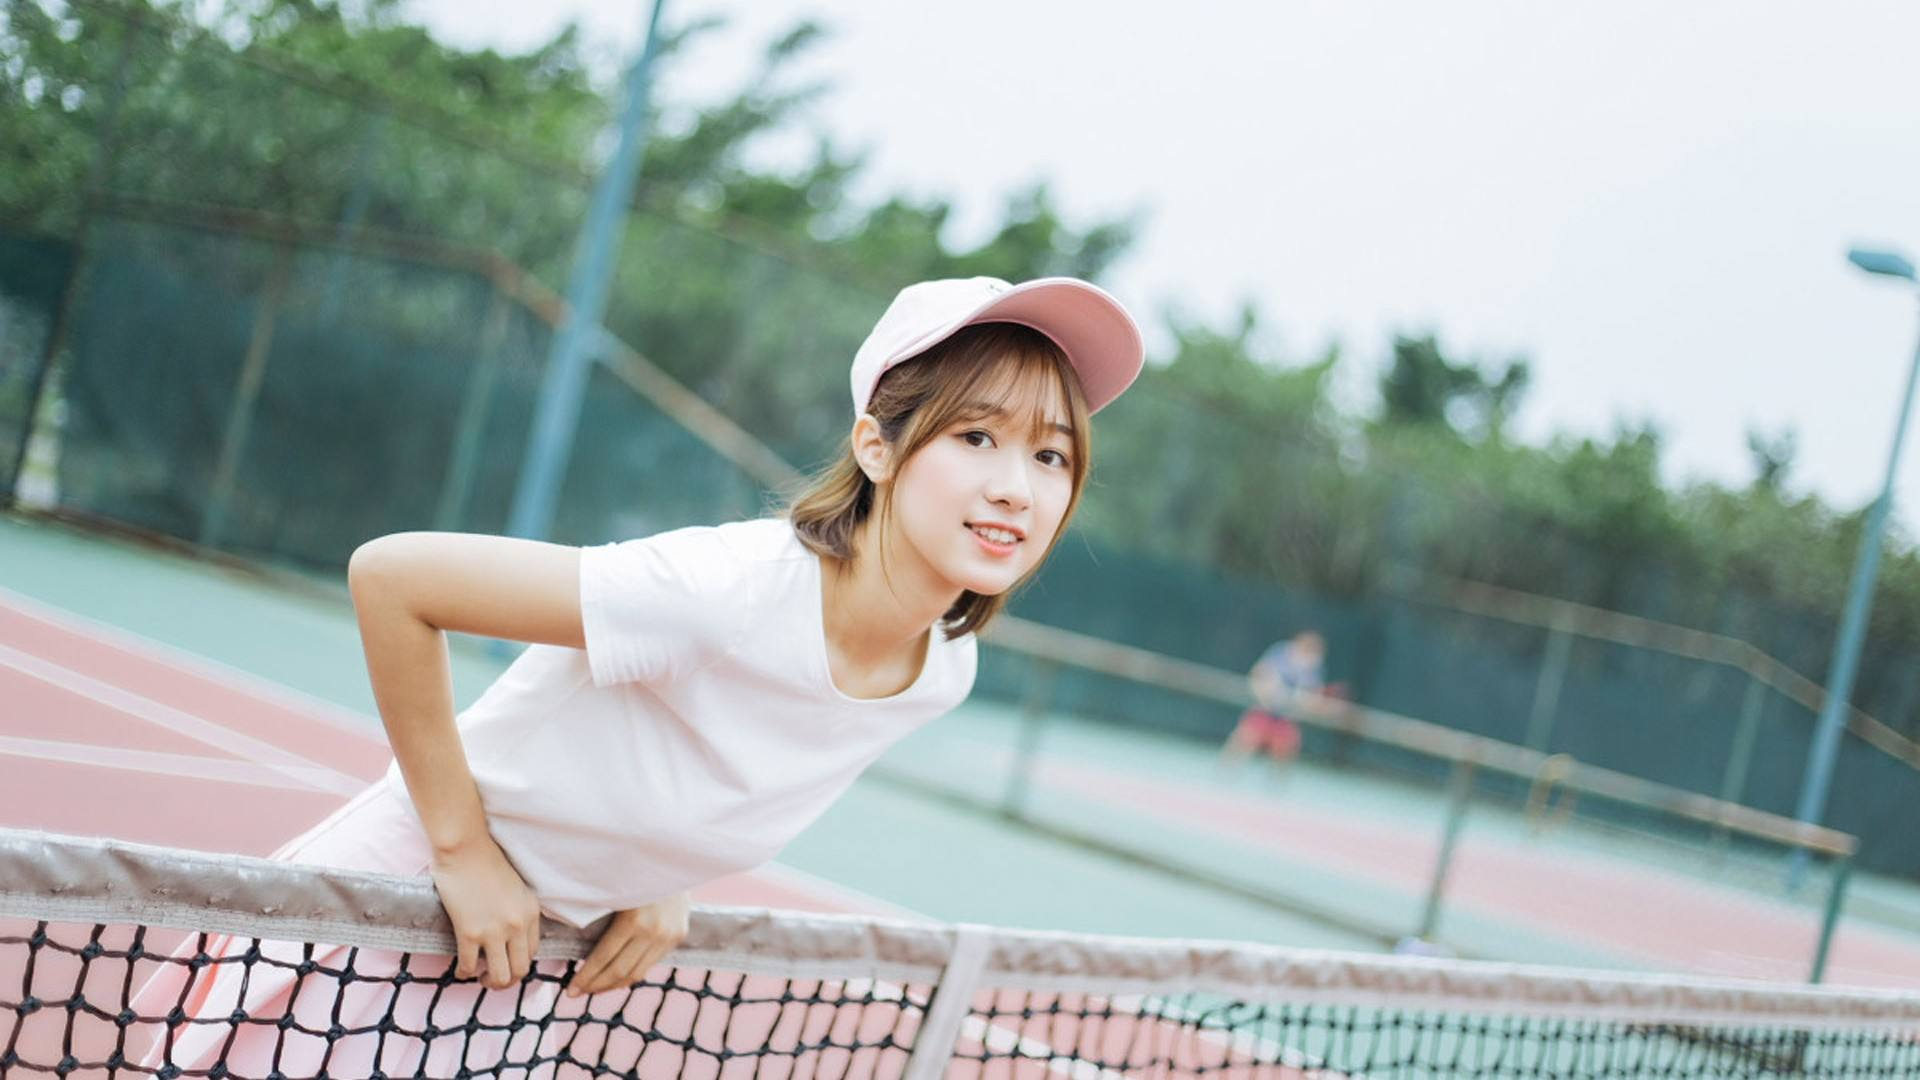person: (751, 242, 1130, 607)
